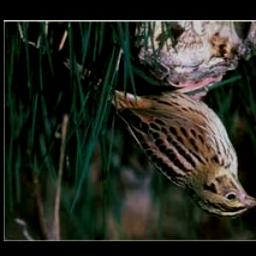Sparrow: (34, 46, 256, 220)
